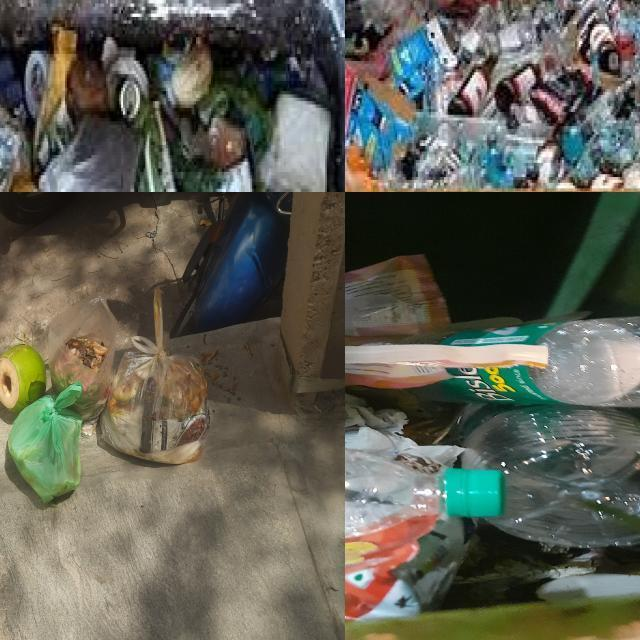Garbage: (345, 242, 640, 624), (345, 0, 640, 192), (0, 24, 336, 192), (0, 284, 226, 533)
Glass_bottle: (374, 0, 640, 189)
Plastic_Bag: (101, 288, 209, 464), (8, 381, 82, 503), (49, 297, 118, 421), (39, 116, 139, 192), (0, 106, 29, 192)
Plastic_bottle: (456, 404, 640, 548), (428, 317, 640, 407), (345, 448, 504, 537)
Plastic_wraper: (345, 515, 465, 620)
